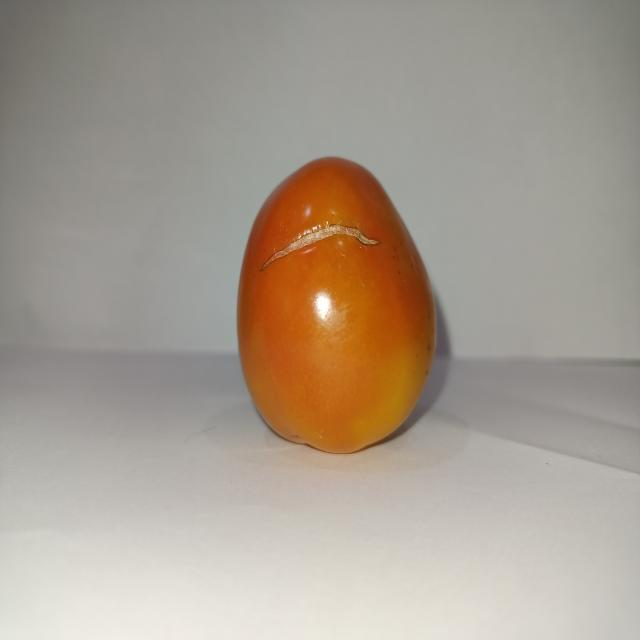Red: (234, 154, 437, 454)
